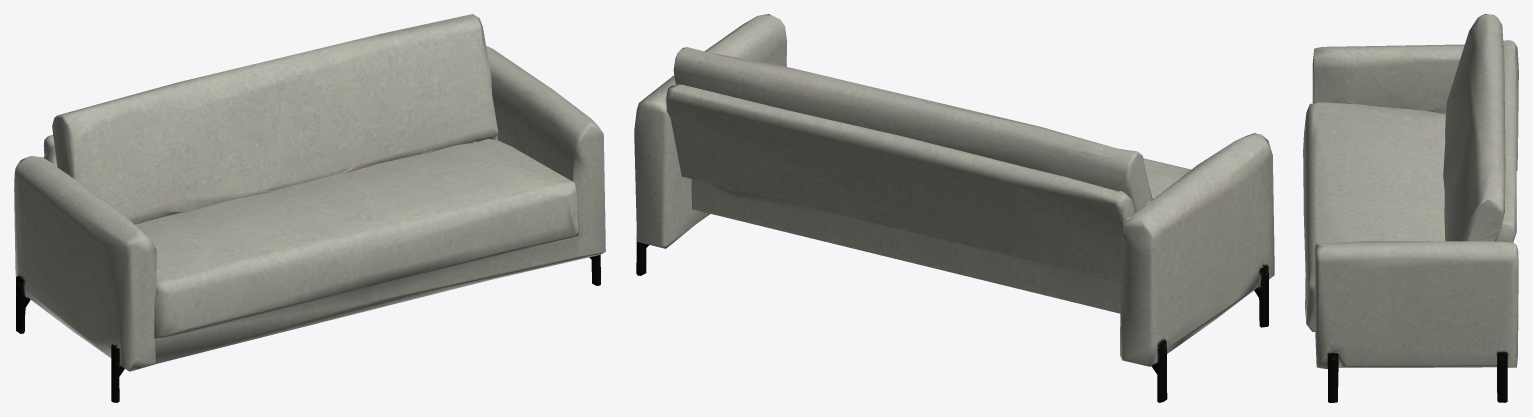
3 renders of one model, left to right at view 1: azimuth 30°, elevation 25°; view 2: azimuth 150°, elevation 25°; view 3: azimuth 270°, elevation 25°, orthographic. The views are drawn at different scales.
Parts seen in each view (by area): view 1: ASY_ART_40618514_S01_NV01; view 2: ASY_ART_40618514_S01_NV01; view 3: ASY_ART_40618514_S01_NV01.
Boxes of the visible parts, box(x1,y1,x2,y2) form: ASY_ART_40618514_S01_NV01: box(14, 14, 605, 402); ASY_ART_40618514_S01_NV01: box(634, 14, 1274, 402); ASY_ART_40618514_S01_NV01: box(1303, 14, 1518, 402).
Bounding box in the file's own units: 1.85 × 0.7834 × 0.7907.
Materials: 1 (1 with a texture image).
